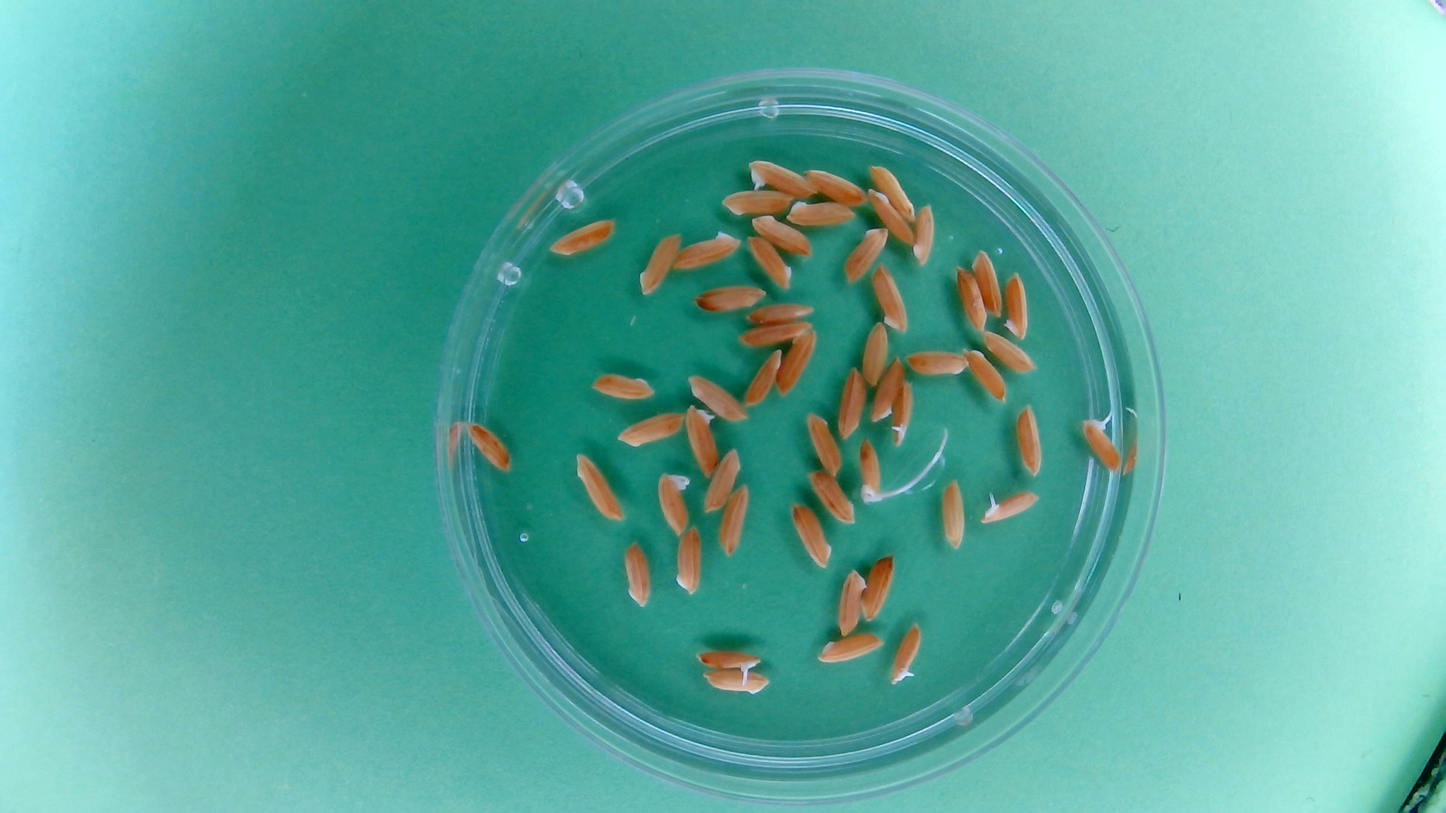no: (572, 450, 624, 523), (685, 372, 751, 424), (788, 499, 834, 571), (775, 325, 819, 399), (636, 229, 683, 297), (669, 228, 740, 273), (868, 159, 917, 224), (547, 217, 618, 260), (840, 224, 889, 286), (805, 467, 857, 525), (749, 213, 816, 258), (866, 187, 916, 247), (745, 232, 795, 291), (462, 418, 513, 474), (804, 166, 870, 209), (701, 446, 742, 515), (962, 346, 1010, 404), (871, 262, 909, 335), (615, 410, 685, 449), (982, 329, 1040, 376), (861, 550, 898, 623), (684, 403, 720, 477), (717, 483, 752, 559), (804, 410, 843, 478), (742, 348, 785, 409), (689, 282, 768, 315), (868, 355, 905, 424), (952, 265, 988, 334), (736, 319, 818, 349), (970, 246, 1005, 316), (588, 369, 658, 404), (621, 538, 655, 610), (836, 364, 868, 440), (1014, 403, 1046, 478), (816, 631, 886, 665), (717, 186, 792, 217), (672, 525, 704, 597), (782, 196, 853, 228), (834, 568, 866, 638), (938, 477, 968, 551), (1002, 271, 1033, 342), (859, 319, 890, 388), (905, 346, 969, 379), (701, 668, 771, 697), (910, 202, 938, 268), (746, 305, 819, 327)
yes: (748, 157, 818, 198), (1079, 412, 1124, 474), (655, 469, 693, 537), (888, 621, 925, 687), (978, 489, 1040, 524), (857, 437, 886, 504), (889, 378, 916, 446), (694, 646, 761, 673)
